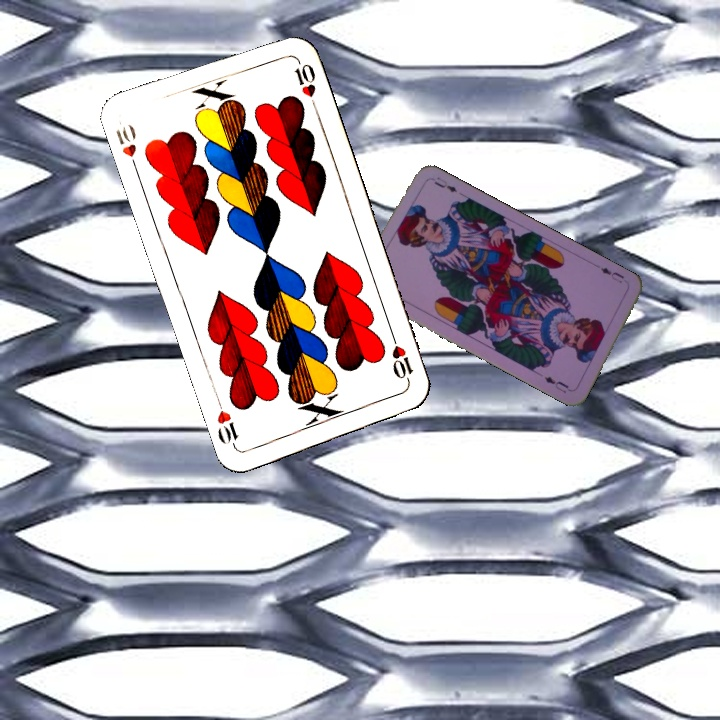EU: (596, 263, 627, 286)
H10: (387, 330, 416, 388), (111, 120, 141, 175)
